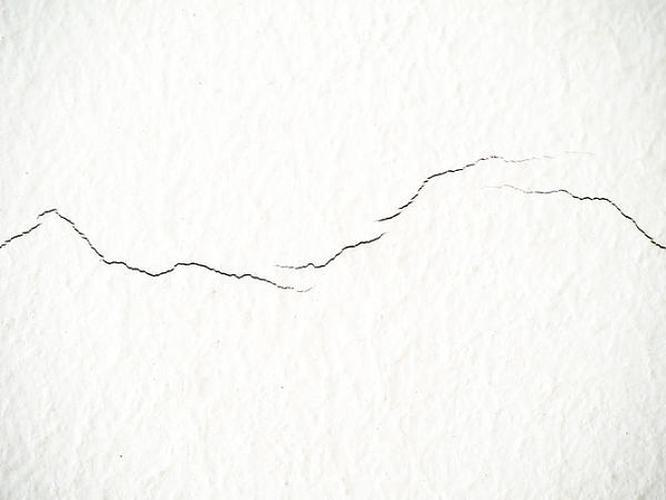Crack: (1, 208, 316, 294), (372, 154, 556, 223), (478, 183, 666, 250), (273, 231, 388, 270)
